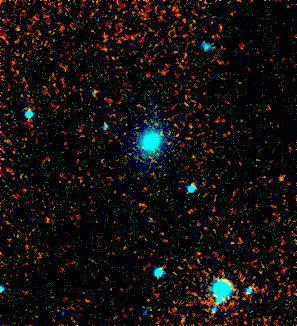star: (262, 167, 292, 197)
